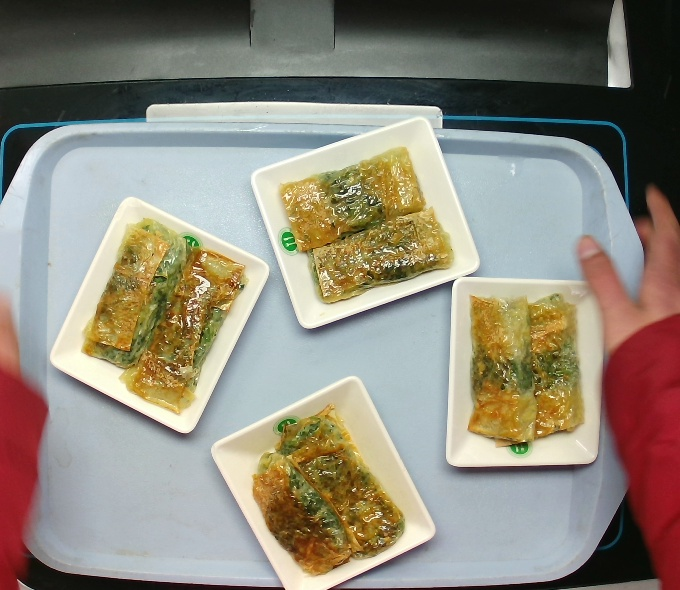wcq-CaiBao: (66, 206, 247, 417), (271, 136, 464, 312), (236, 390, 411, 577), (460, 280, 600, 458)
